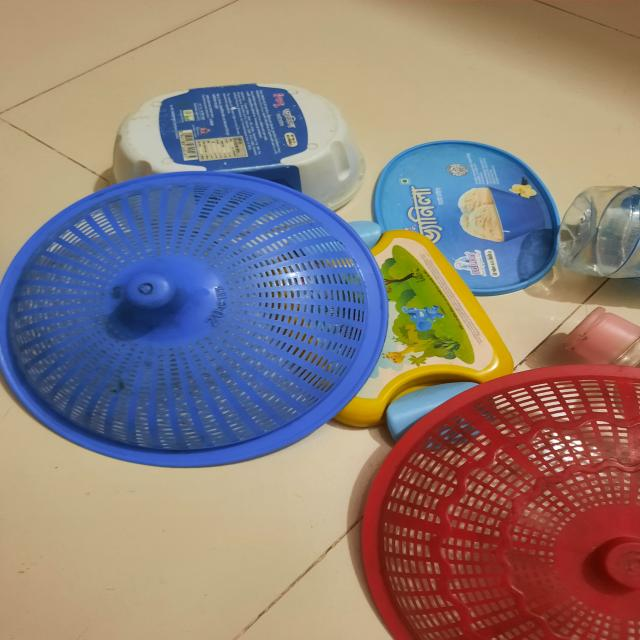Plastics: (4, 74, 640, 458), (365, 379, 640, 640)
